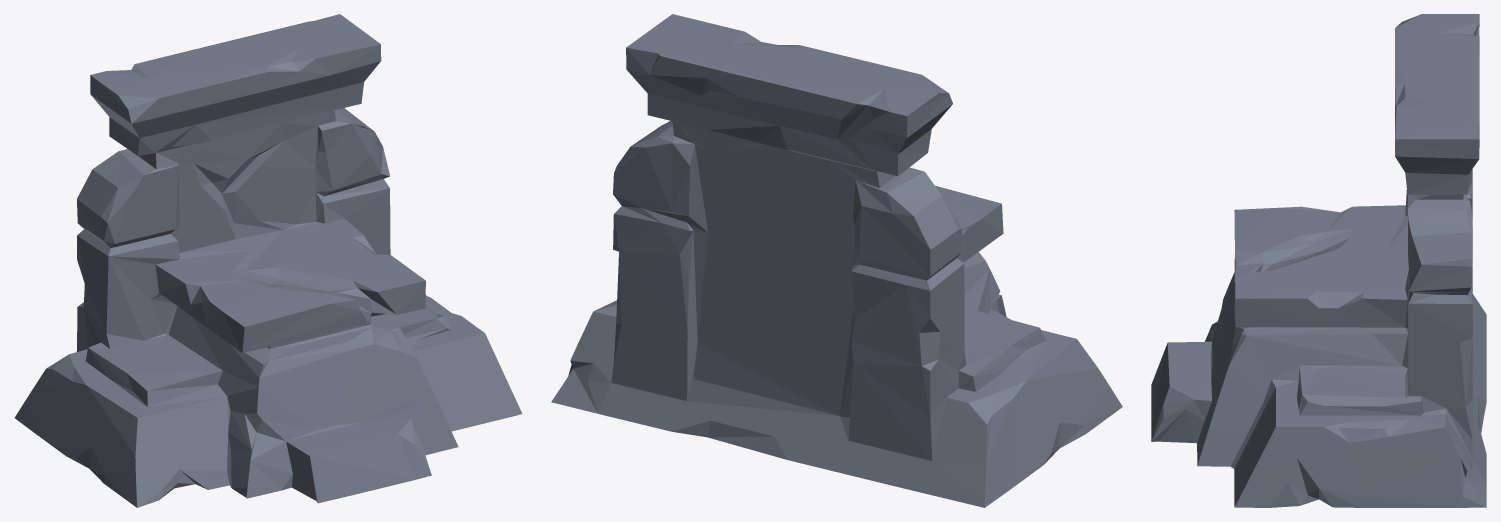
The model's file is Alter_03.FBX.
The picture shows the model from 3 angles, left to right: view 1: azimuth 30°, elevation 25°; view 2: azimuth 150°, elevation 25°; view 3: azimuth 270°, elevation 25°; orthographic projection. The views are drawn at different scales.
Parts seen in each view (by area): view 1: Alter_03; view 2: Alter_03; view 3: Alter_03.
Boxes of the visible parts, <box> form: Alter_03: <box>14,14,522,507</box>; Alter_03: <box>551,14,1122,507</box>; Alter_03: <box>1151,14,1486,507</box>.
Bounding box in the file's own units: 3.36 × 2.74 × 2.47.
